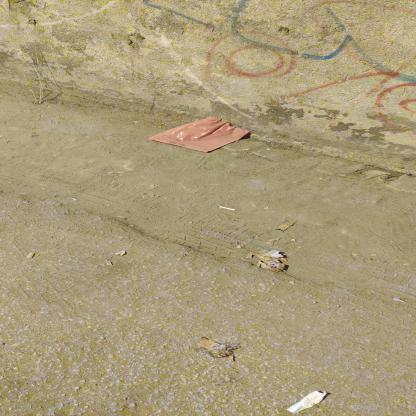plastik: (149, 118, 252, 154)
